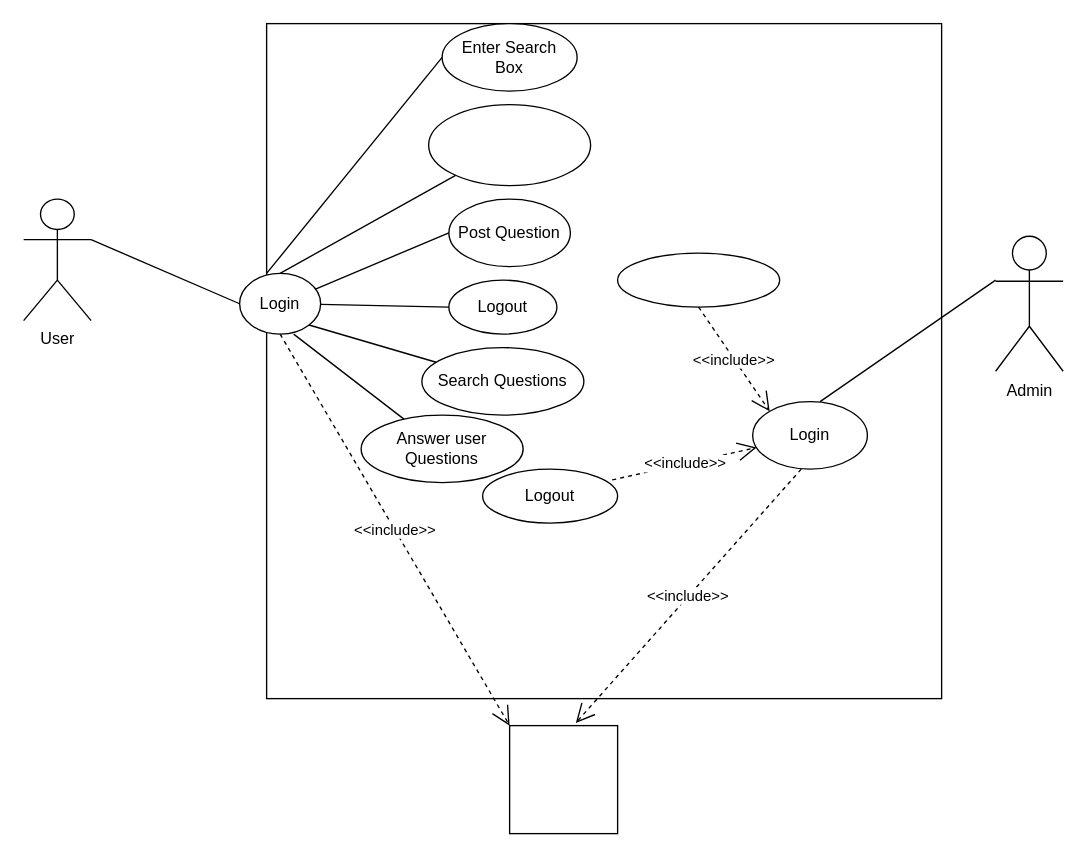
Image size: 1087x857. Some labels were removed from this diagram. The box of each missing label's shape, as (x1, y1, x2, y2) in pixels:
<<Actor>> Wits Overflow Database: (508, 724, 618, 834)
Ban User: (616, 252, 780, 307)
Enter question into search box: (427, 103, 591, 186)
